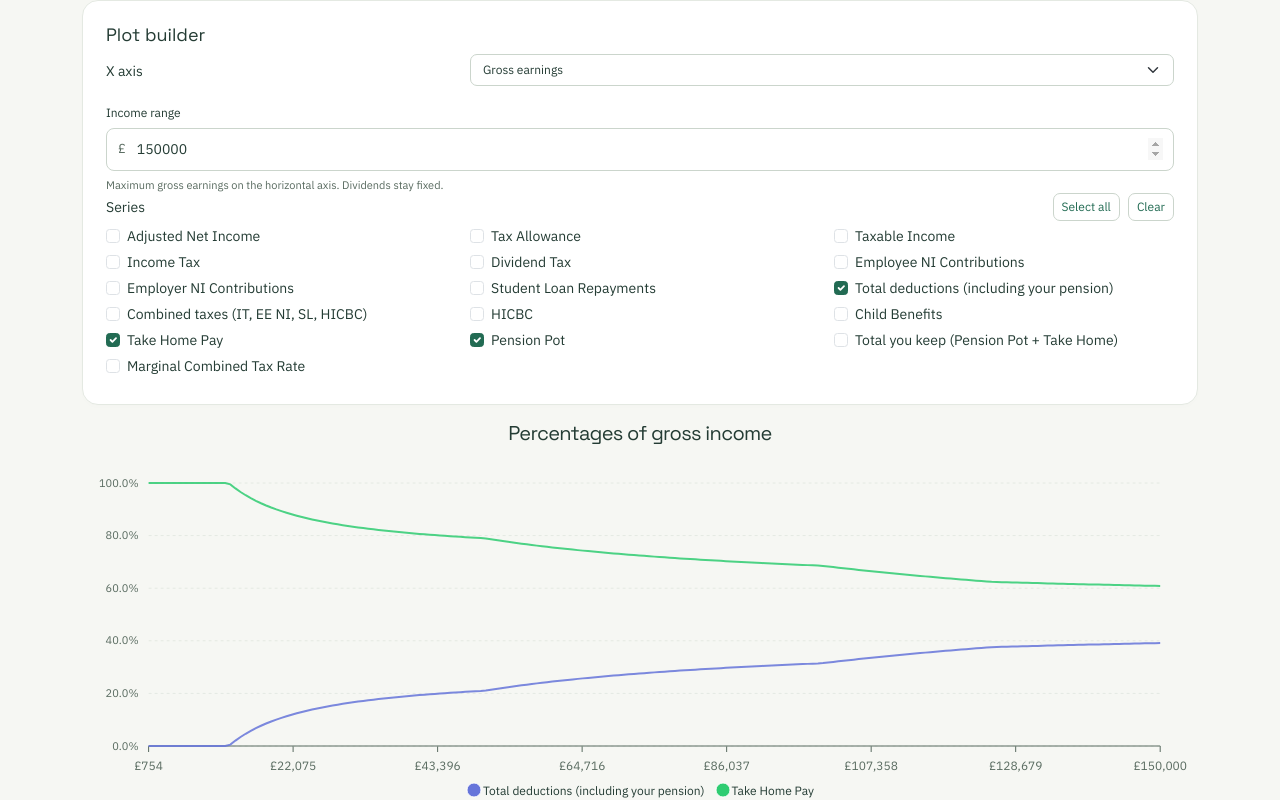
Test case: TaxYearOverview plot builder › hides the income range input for the auto enrolment sweep
Select "Auto enrolment %" in the dropdown at (822, 70), box [470,54,1174,86]
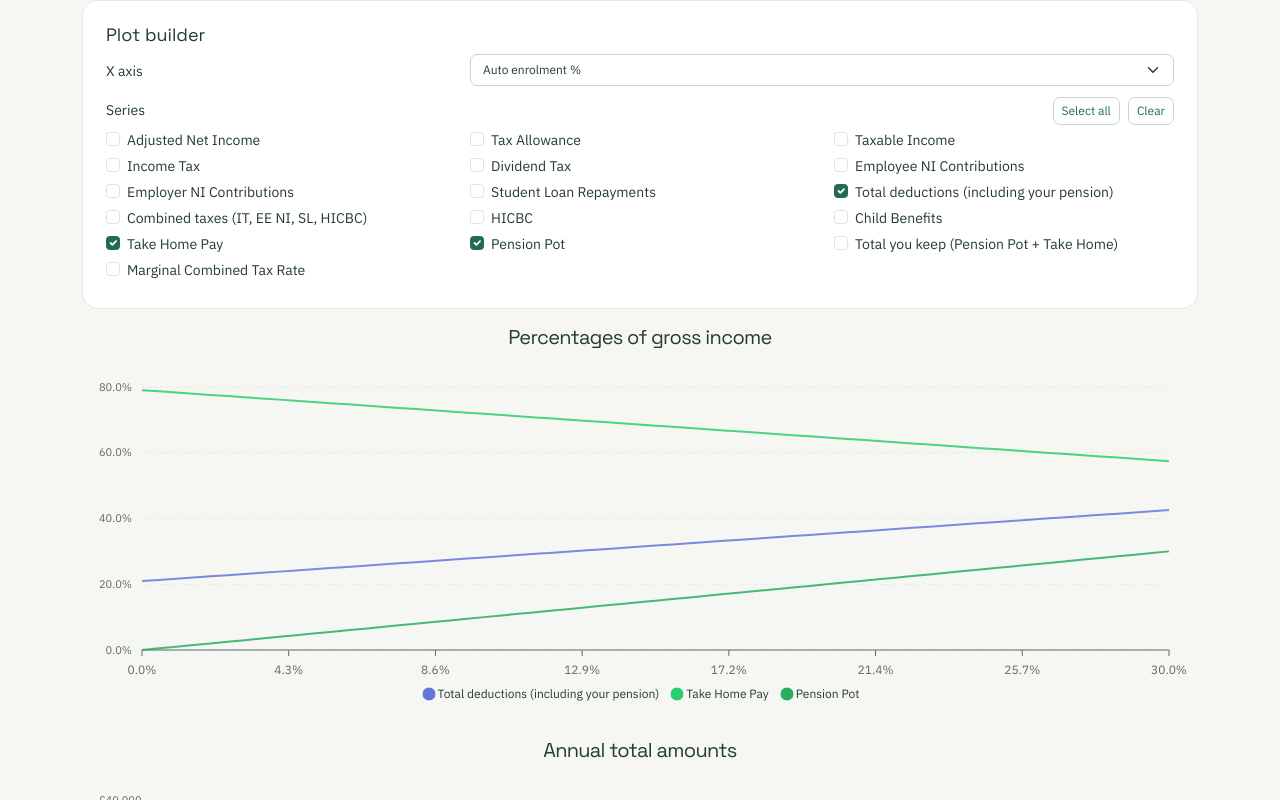
Now the text "Income range" is gone
// switching back restores it
Select "Gross earnings" in the dropdown at (822, 70), box [470,54,1174,86]
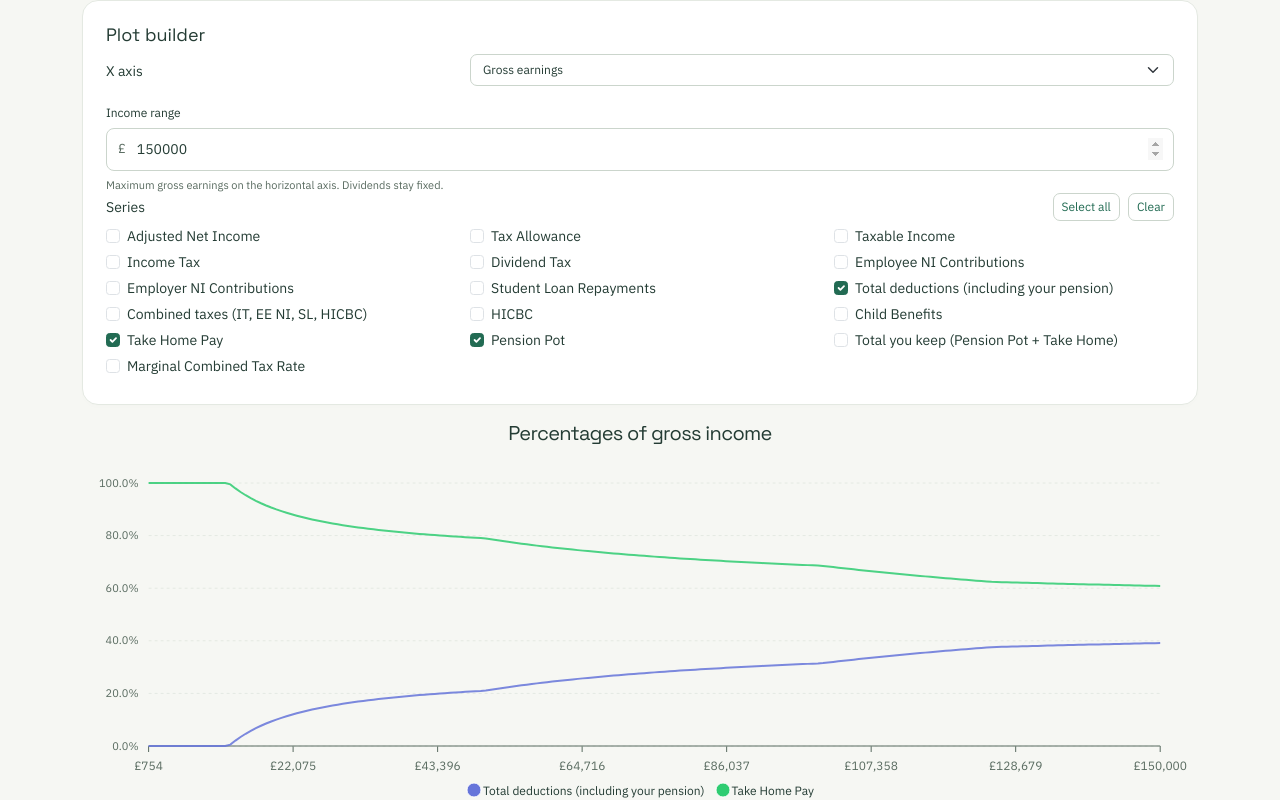
Now the text "Income range" is shown, box [106,105,181,120]
